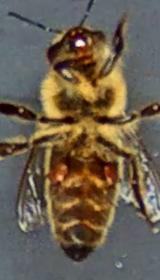varroa_mite: (38, 146, 78, 194), (90, 150, 120, 188)
